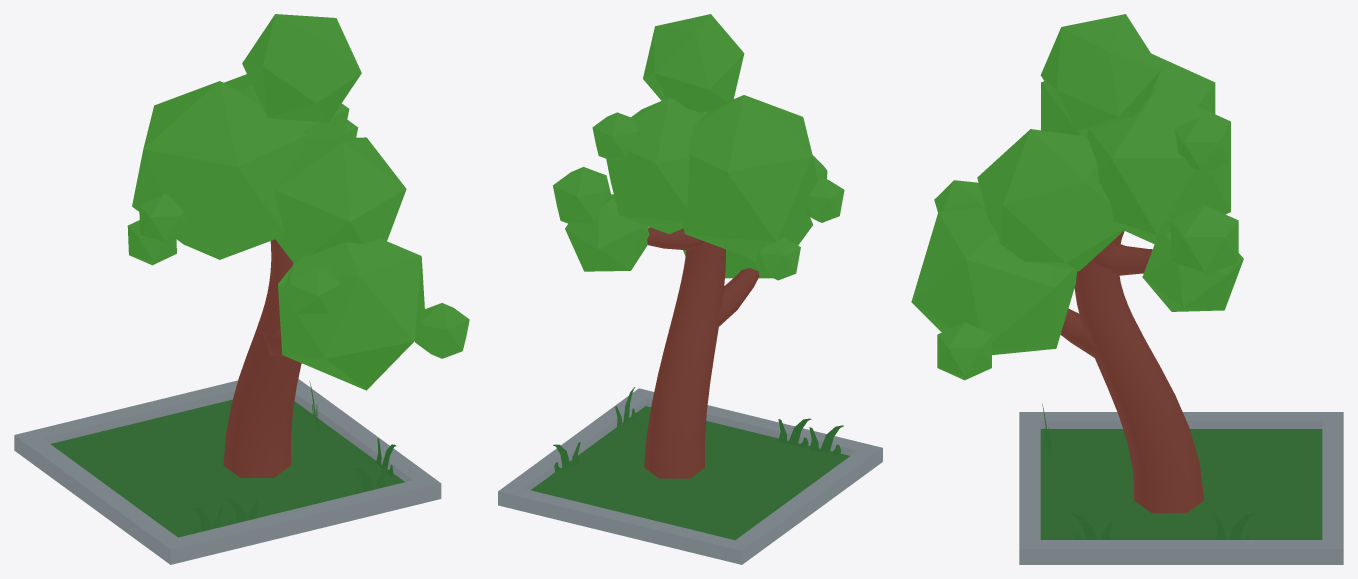
The model's file is tree2.glb.
3 renders of one model, left to right at view 1: azimuth 30°, elevation 25°; view 2: azimuth 150°, elevation 25°; view 3: azimuth 270°, elevation 25°, orthographic. The views are drawn at different scales.
Visible parts, largest first — view 1: Plane.026, Icosphere.029, Cube.004, Icosphere.026, Icosphere.032, BezierCurve.002, Icosphere.033, Icosphere.031, Icosphere.030, Icosphere.034, Icosphere.024, Icosphere.035; view 2: Plane.026, Icosphere.029, Cube.004, BezierCurve.002, Icosphere.024, Icosphere.033, Icosphere.027, Icosphere.028, Icosphere.025, Icosphere.035, Icosphere.034, Icosphere.026 (+2 smaller); view 3: Plane.026, Cube.004, BezierCurve.002, Icosphere.026, Icosphere.032, Icosphere.024, Icosphere.033, Icosphere.027, Icosphere.028, Icosphere.029, Icosphere.030, Icosphere.025 (+1 smaller).
Boxes of the visible parts, <box> form: Plane.026: <box>50,399,404,537</box>; Icosphere.029: <box>132,81,307,259</box>; Cube.004: <box>14,379,441,564</box>; Icosphere.026: <box>278,238,424,390</box>; Icosphere.032: <box>274,137,406,262</box>; BezierCurve.002: <box>223,239,301,477</box>; Icosphere.033: <box>242,14,361,122</box>; Icosphere.031: <box>282,262,340,313</box>; Icosphere.030: <box>414,303,469,358</box>; Icosphere.034: <box>139,194,185,245</box>; Icosphere.024: <box>224,74,349,139</box>; Icosphere.035: <box>127,220,176,265</box>; Plane.026: <box>531,406,849,540</box>; Icosphere.029: <box>681,95,817,255</box>; Cube.004: <box>498,388,882,564</box>; BezierCurve.002: <box>644,227,759,478</box>; Icosphere.024: <box>606,97,708,234</box>; Icosphere.033: <box>643,14,744,112</box>; Icosphere.027: <box>565,194,649,271</box>; Icosphere.028: <box>553,167,611,223</box>; Icosphere.025: <box>592,112,639,159</box>; Icosphere.035: <box>755,237,800,280</box>; Icosphere.034: <box>806,176,844,222</box>; Icosphere.026: <box>683,218,812,278</box>; Plane.026: <box>1040,429,1322,539</box>; Cube.004: <box>1019,412,1343,564</box>; BezierCurve.002: <box>1060,230,1204,513</box>; Icosphere.026: <box>911,207,1077,354</box>; Icosphere.032: <box>977,129,1125,271</box>; Icosphere.024: <box>1087,88,1230,243</box>; Icosphere.033: <box>1040,14,1161,130</box>; Icosphere.027: <box>1142,232,1243,311</box>; Icosphere.028: <box>1171,205,1238,275</box>; Icosphere.029: <box>1041,53,1215,136</box>; Icosphere.030: <box>937,322,991,380</box>; Icosphere.025: <box>1175,116,1228,172</box>.
Size of the model in its own units: 2.01 by 3.38 by 2.67.
